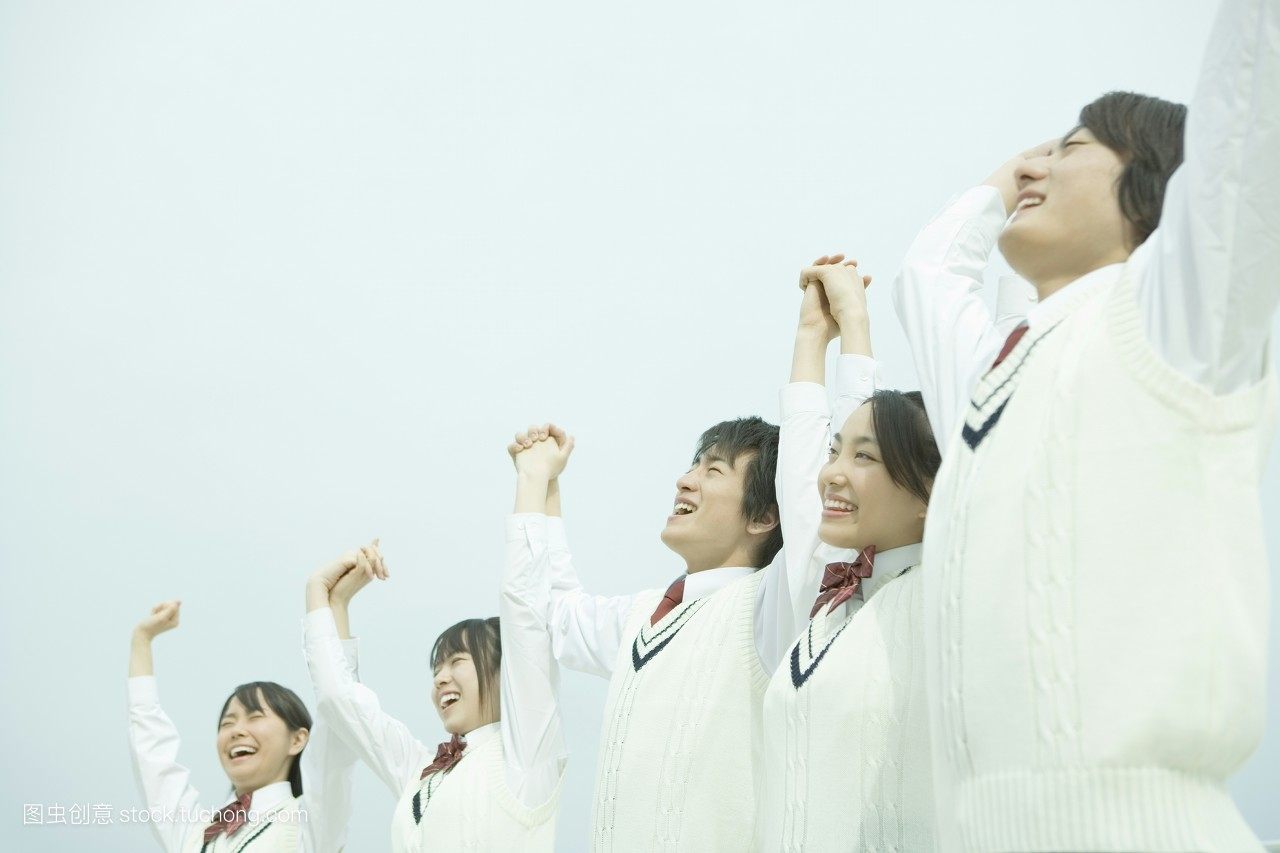handsup: (499, 220, 838, 853), (301, 416, 595, 851), (117, 538, 434, 851)
